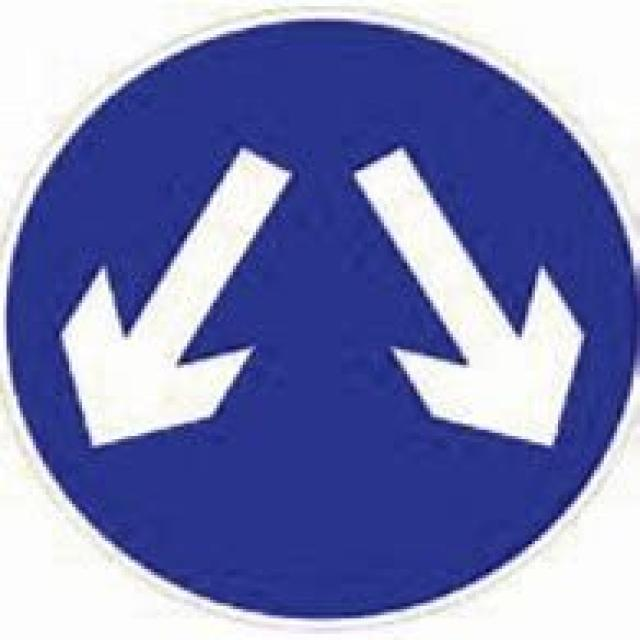no_overtaking: (3, 16, 637, 616)
